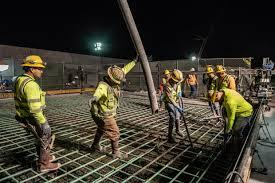safe person: (12, 54, 60, 172), (89, 64, 129, 161), (208, 91, 250, 128), (166, 70, 186, 142), (218, 58, 233, 84), (204, 66, 216, 87), (189, 67, 197, 92)
